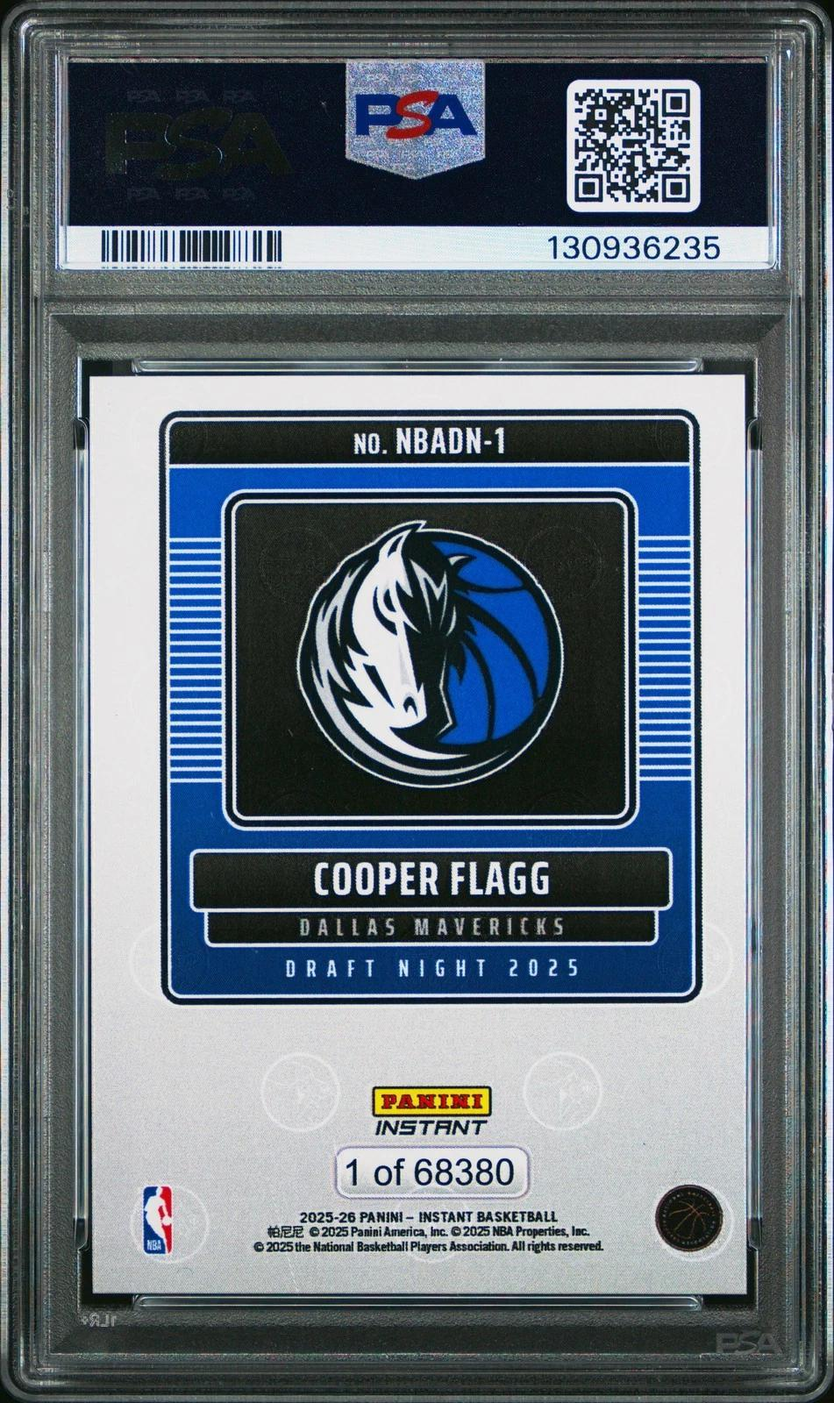card-2UtV: (89, 373, 748, 1295)
